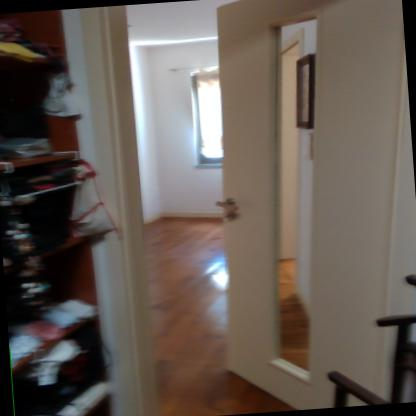semi: (91, 0, 337, 415)
